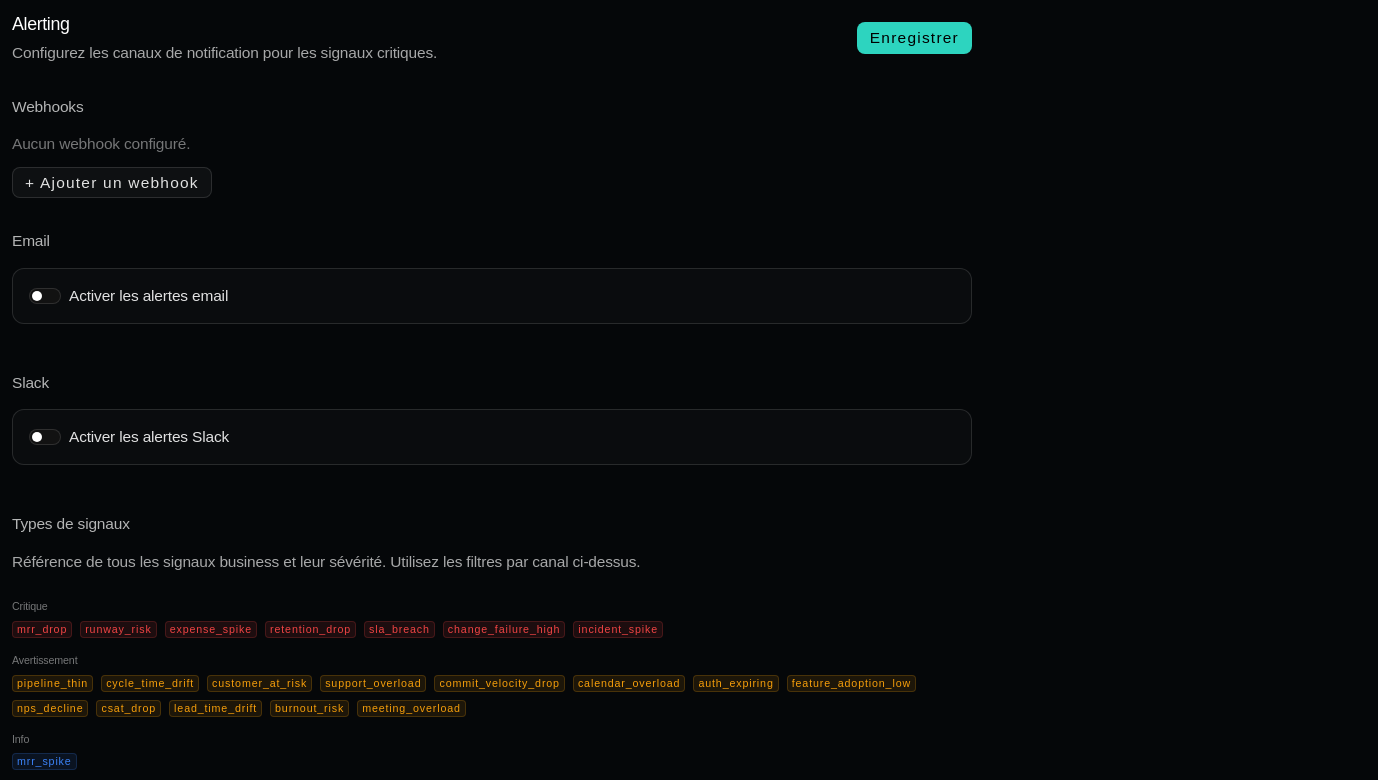
Test: AlertingSettings — sauvegarde › affiche Erreur si le PUT échoue
This screenshot has width=1378, height=780.
Expected: the heading "Alerting" is shown, 12,14 -> 70,34
Click the button "Enregistrer": click(914, 38) 857,22 -> 972,54
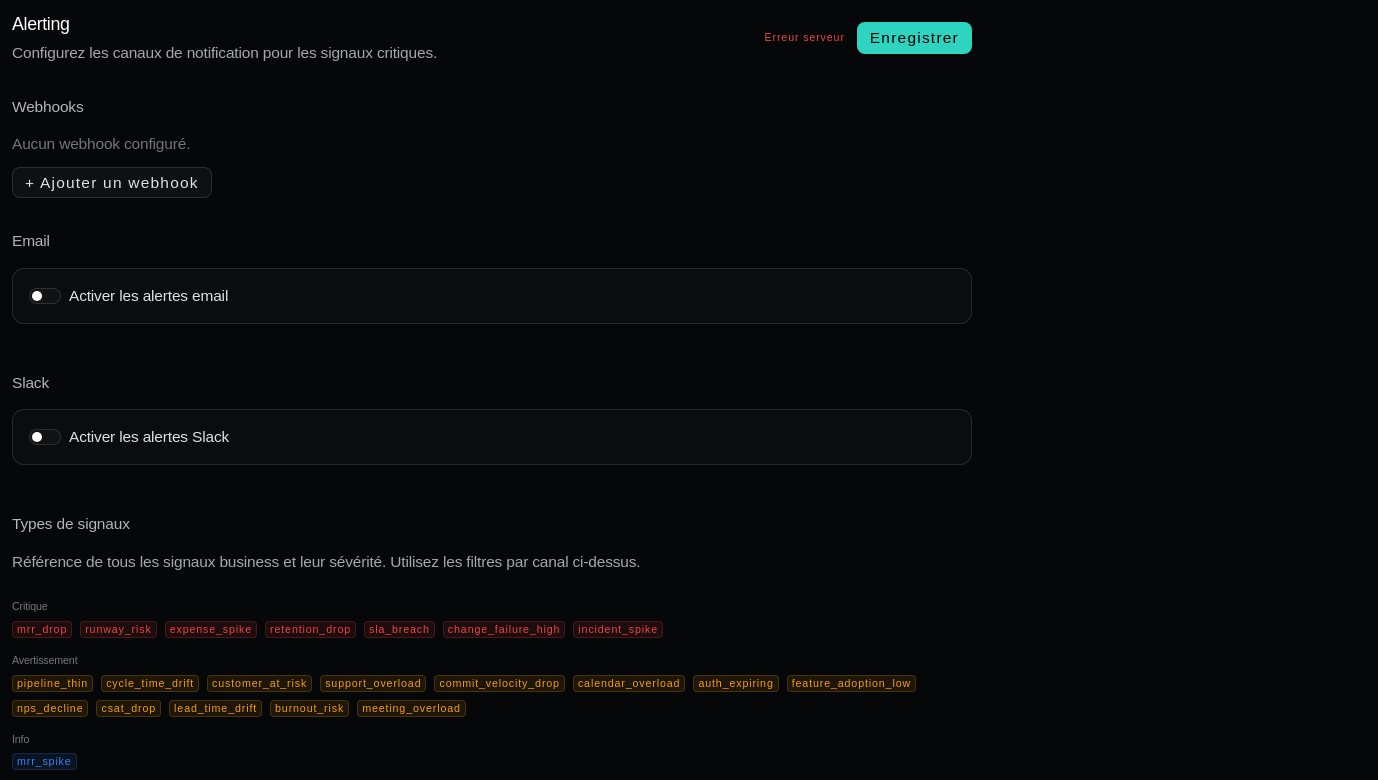
Expected: the text "Erreur serveur" is shown, 764,31 -> 845,44
